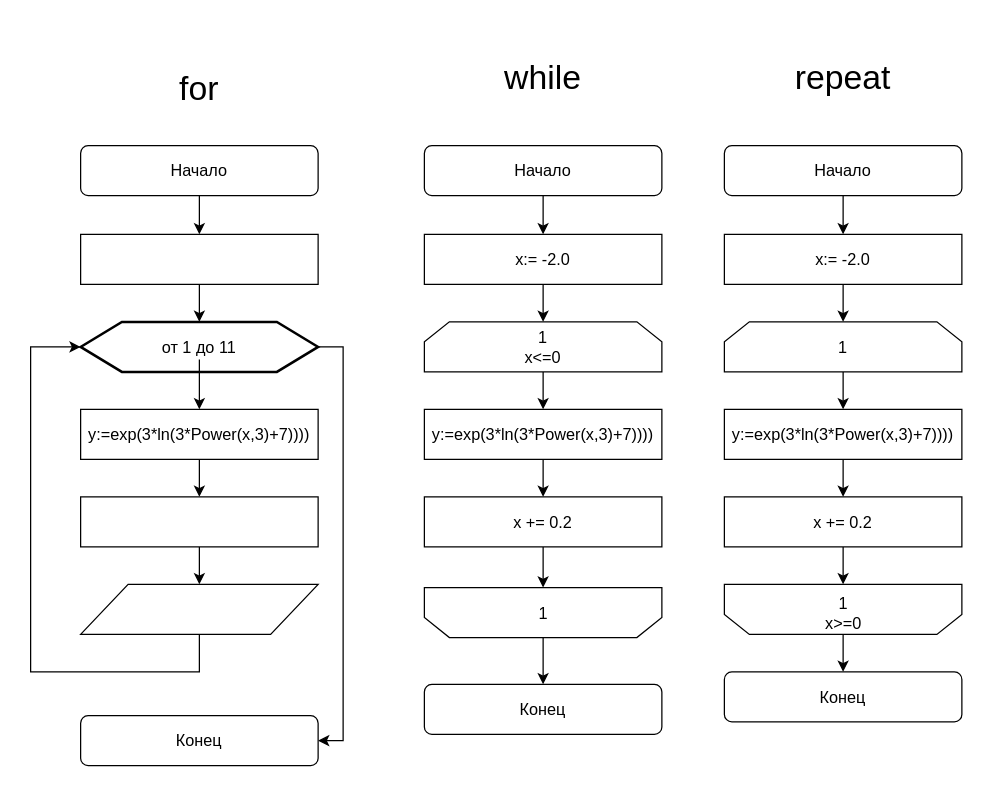
Some shapes in this 990 by 788 pixel diagram are drawn without their labels. The shapes that lost their labels are listed below. From the top down, each one's centre as x and y in pixels, then its label:
[198,258]: x:=-2
[198,521]: x:=i*0.1
[198,608]: Вывод x и y
